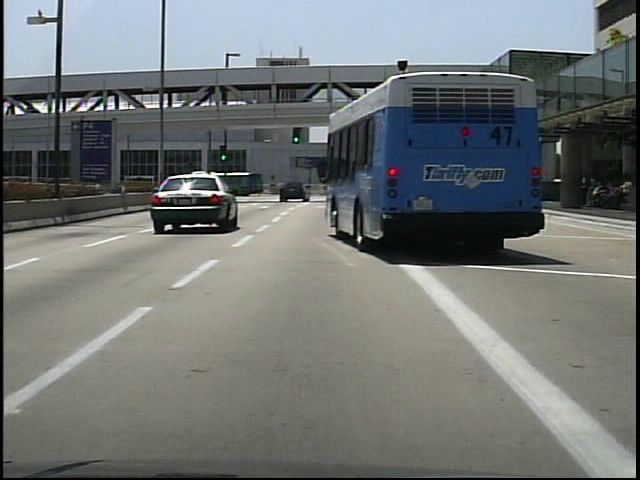person: (578, 168, 592, 209)
